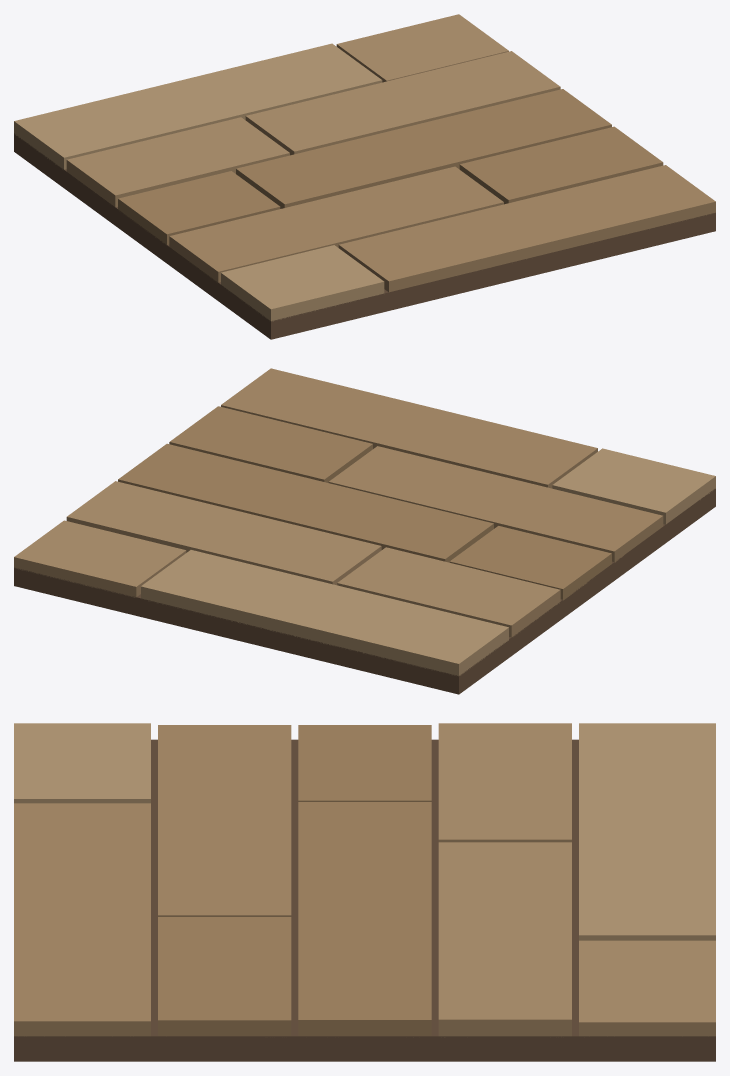
The model's file is wooden_floor_lowpoly.glb.
The picture shows the model from 3 angles, top to bottom: view 1: azimuth 30°, elevation 25°; view 2: azimuth 150°, elevation 25°; view 3: azimuth 270°, elevation 25°; orthographic projection. The views are drawn at different scales.
Parts seen in each view (by area): view 1: Wooden_floorTile; view 2: Wooden_floorTile; view 3: Wooden_floorTile.
Part boxes in pixels (box(x1,y1,x2,y2)): Wooden_floorTile: box(14, 14, 715, 339); Wooden_floorTile: box(14, 368, 715, 694); Wooden_floorTile: box(14, 723, 715, 1061).
Size of the model in its own units: 1 by 0.0659 by 1.
